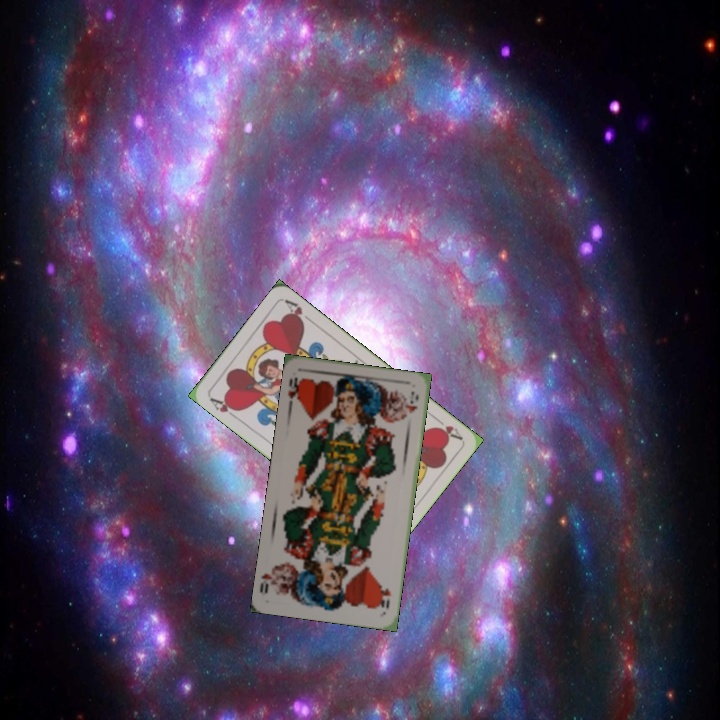HA: (205, 393, 242, 422), (430, 412, 464, 442)
HO: (284, 373, 305, 404), (375, 580, 393, 611)
